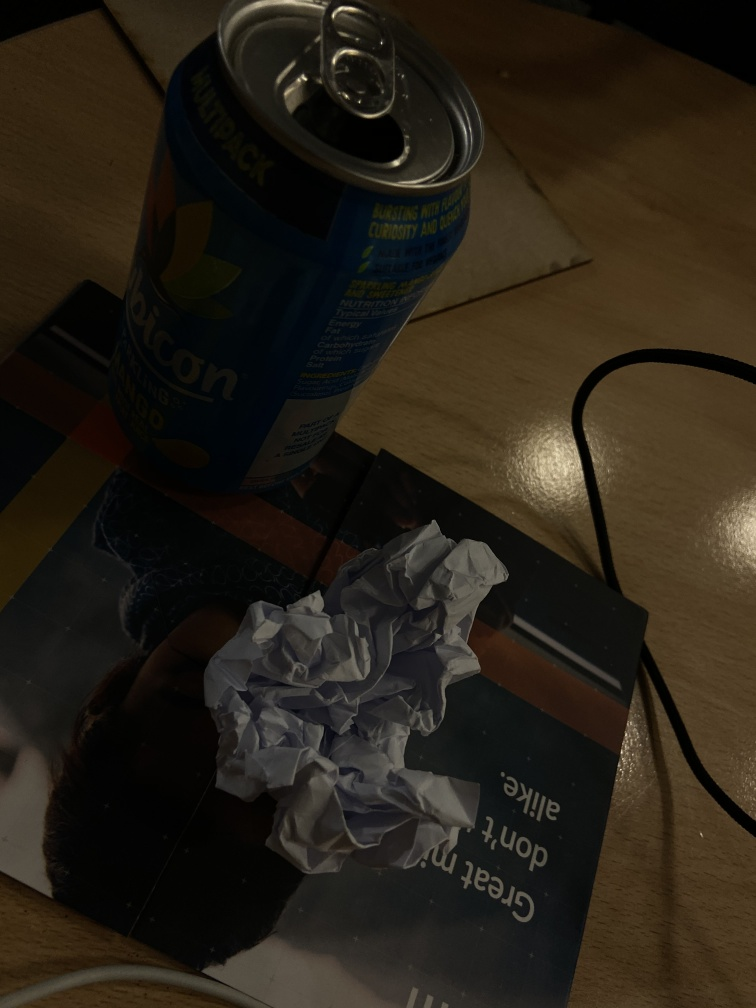can_blue: (104, 1, 486, 497)
paper_white: (199, 516, 527, 877)
